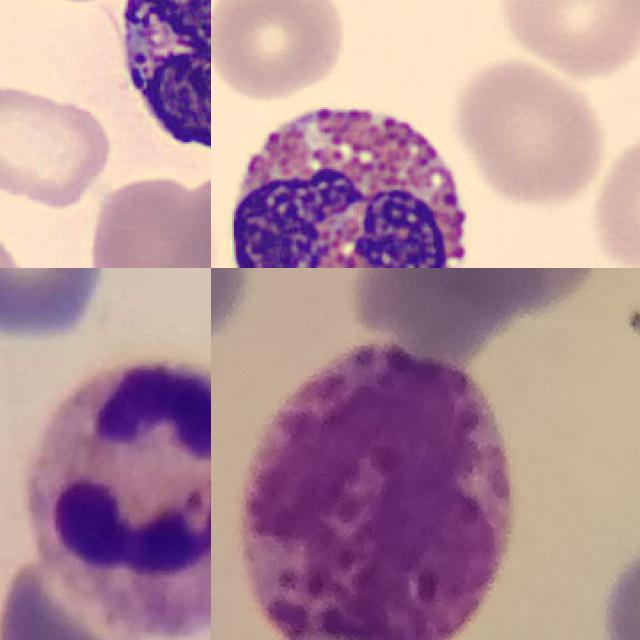Basophil: (245, 346, 515, 640), (101, 0, 211, 184)
Eosinophil: (212, 79, 484, 268)
Neutrophil: (24, 358, 211, 636)
RBC: (449, 54, 609, 208), (211, 0, 349, 104), (0, 81, 113, 205), (80, 164, 211, 268), (491, 0, 640, 81), (588, 119, 640, 268), (179, 170, 211, 268)
